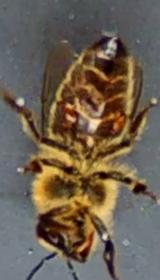varroa_mite: (52, 93, 82, 133), (102, 96, 128, 138)
